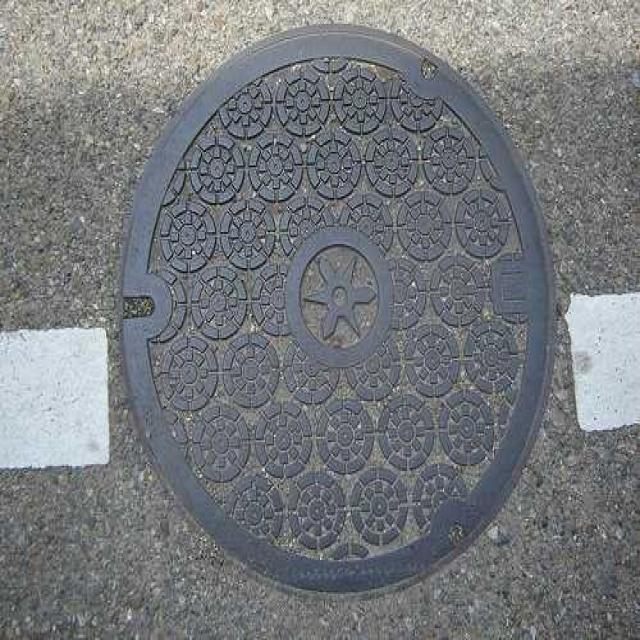manhole: (124, 27, 551, 591)
